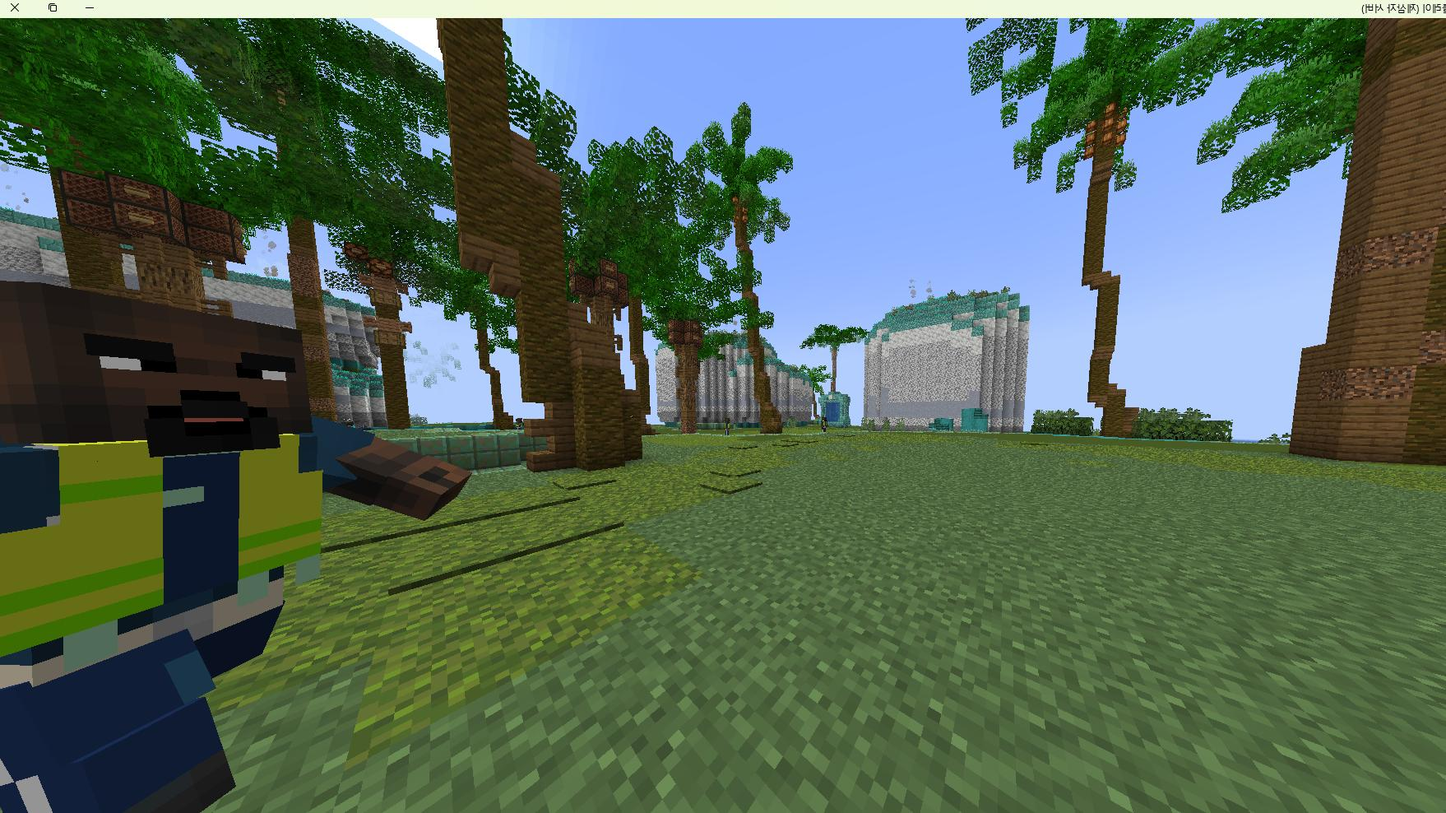Guardian: (0, 302, 470, 813), (818, 415, 827, 433), (724, 416, 732, 435)
